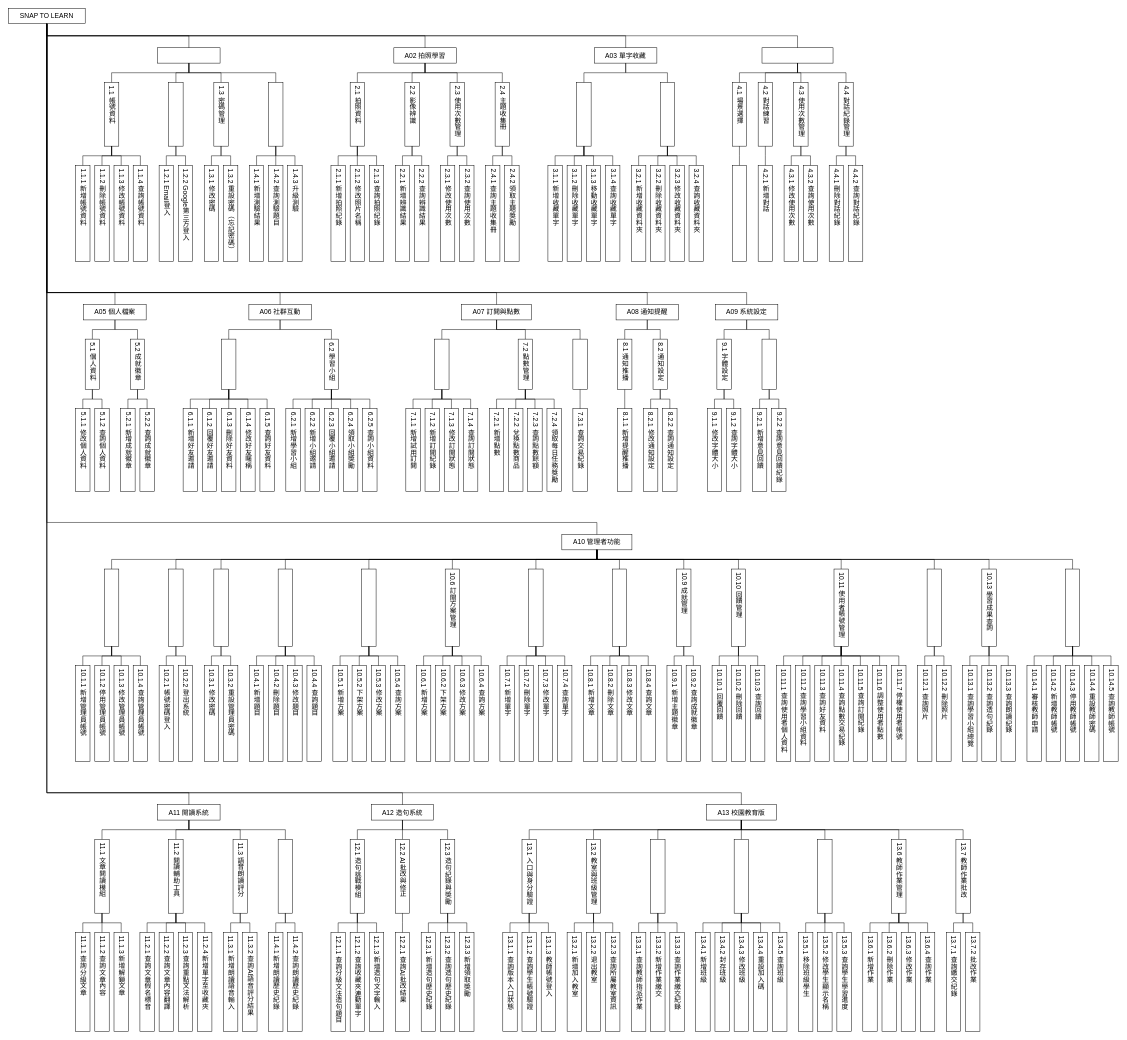
This 1127x1040 diagram has some shape labels left out. The box of each missing label's shape, as (x1, y1, x2, y2) in pixels:
1.2 登入驗證: (168, 82, 183, 146)
1.4 日語程度測驗: (268, 82, 283, 146)
10.1 管理員帳號管理: (104, 569, 119, 646)
10.12 照片管控: (927, 569, 942, 646)
10.14 教師帳號管理: (1065, 569, 1080, 646)
10.2 登入驗證: (168, 569, 183, 646)
10.3 密碼管理: (213, 569, 228, 646)
10.4 題庫管理: (278, 569, 293, 646)
10.5 購點方案管理: (361, 569, 376, 646)
10.7 單字管理: (528, 569, 543, 646)
10.8 閱讀文章管理: (612, 569, 627, 646)
11.4 朗讀紀錄管理: (278, 839, 293, 913)
13.3 作業指派與繳交: (650, 839, 665, 913)
13.4 教師班級管理: (734, 839, 749, 913)
13.5 教師學生管理: (817, 839, 832, 913)
3.1 單字管理: (576, 82, 591, 146)
3.2 資料夾管理: (660, 82, 675, 146)
4.1.1 查詢場景清單: (732, 165, 747, 261)
6.1 好友管理: (221, 339, 236, 390)
7.1 訂閱管理: (434, 339, 449, 390)
7.3 交易紀錄: (572, 339, 587, 390)
9.2 意見回饋: (762, 339, 776, 390)
A01 帳號管理: (157, 47, 220, 63)
A04 AI對話練習: (762, 47, 833, 63)
